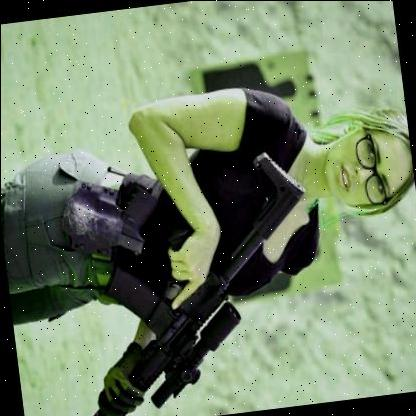rifle: (39, 150, 341, 416)
